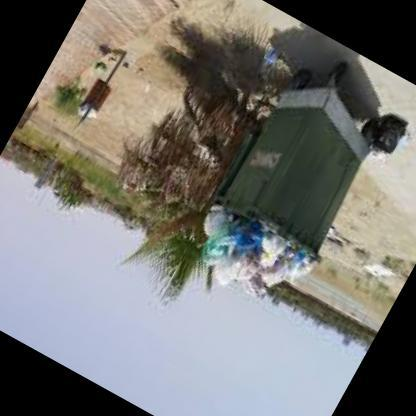Garbage: (180, 203, 316, 322), (366, 105, 416, 163), (226, 240, 266, 284), (200, 218, 238, 262), (254, 230, 288, 262), (259, 256, 291, 289), (262, 46, 285, 74), (74, 100, 88, 116), (86, 110, 97, 122)
